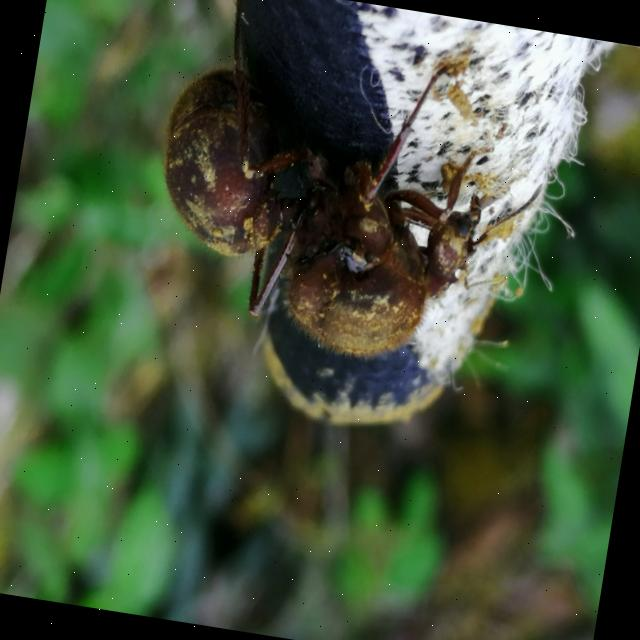Alive-Female-Dealate: (137, 0, 567, 382)
